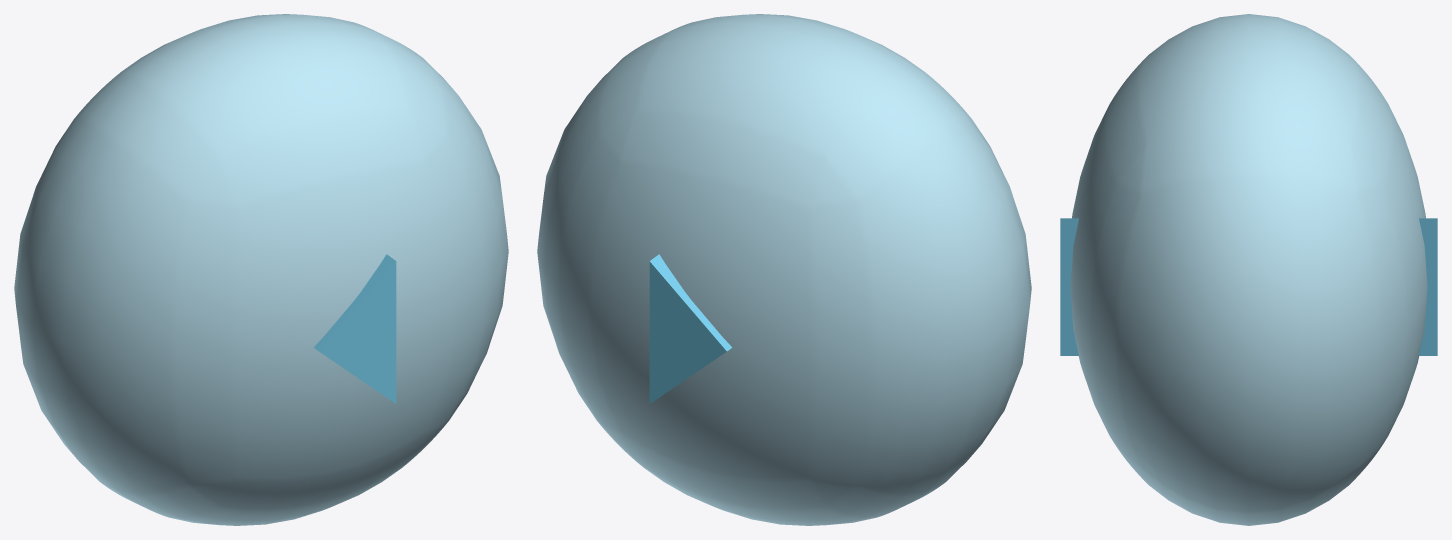
File: play_button_animation_frame18.fbx
3 renders of one model, left to right at view 1: azimuth 30°, elevation 25°; view 2: azimuth 150°, elevation 25°; view 3: azimuth 270°, elevation 25°, orthographic. The views are drawn at different scales.
Parts seen in each view (by area): view 1: Button, Triangle; view 2: Button, Triangle; view 3: Button, Triangle.
Part boxes in pixels (left/top/right/bottom): Button: left=14, top=14, right=508, bottom=525; Triangle: left=314, top=254, right=396, bottom=403; Button: left=537, top=14, right=1031, bottom=525; Triangle: left=649, top=254, right=731, bottom=403; Button: left=1070, top=14, right=1427, bottom=525; Triangle: left=1060, top=218, right=1437, bottom=355.
Bounding box in the file's own units: 331 × 331 × 245.
